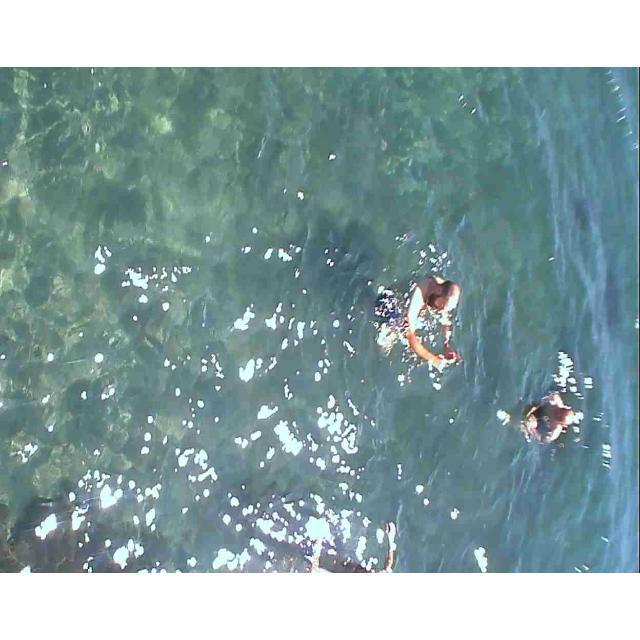human: (389, 260, 460, 380), (527, 380, 576, 451)
